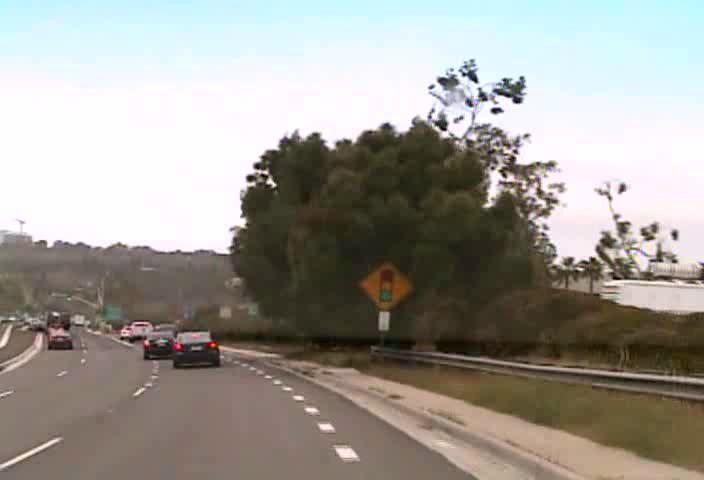signalAhead: (358, 259, 414, 311)
